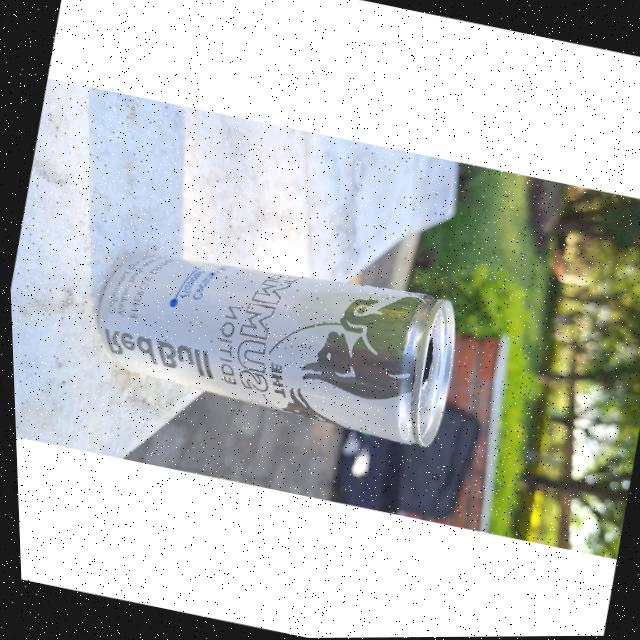Redbull Summer Edition: (73, 226, 466, 459)
